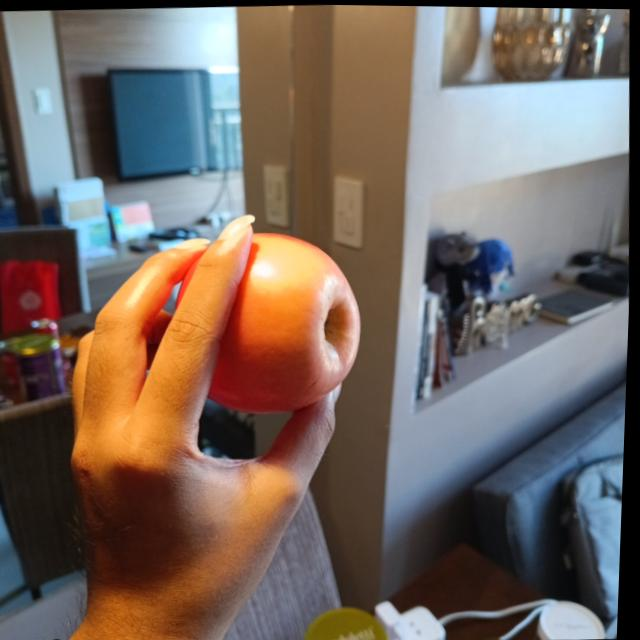apple: (172, 229, 370, 418)
